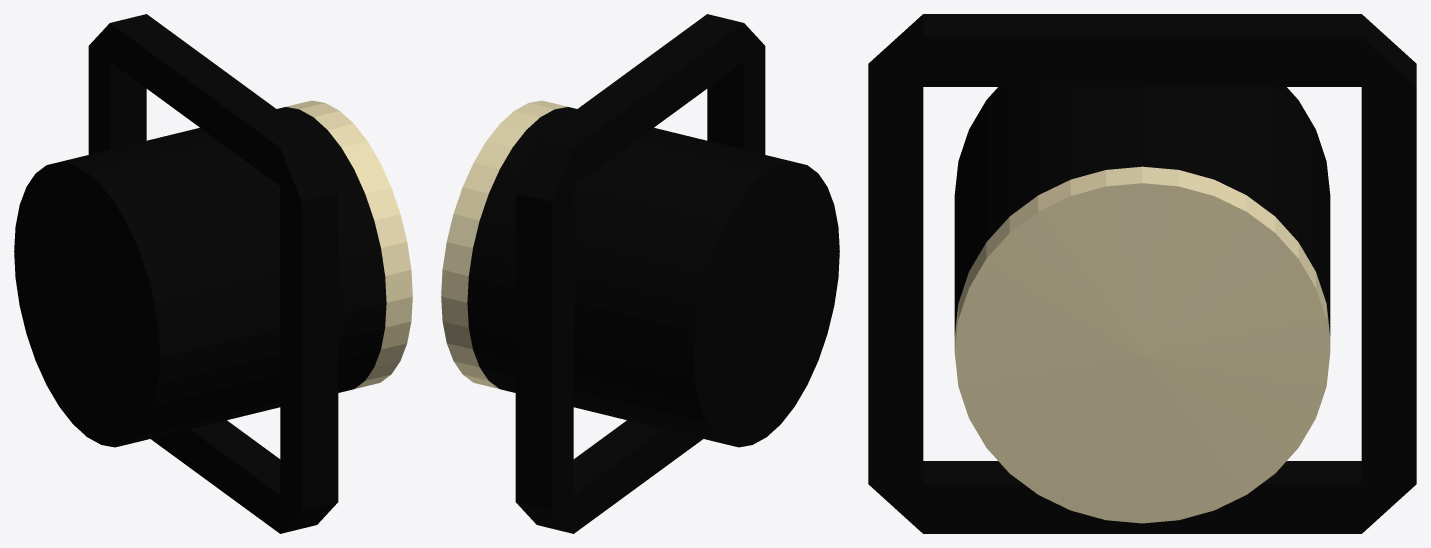
File: Stage Light.fbx
3 renders of one model, left to right at view 1: azimuth 30°, elevation 25°; view 2: azimuth 150°, elevation 25°; view 3: azimuth 270°, elevation 25°, orthographic. The views are drawn at different scales.
Visible parts, largest first — view 1: Cylinder, Cube; view 2: Cylinder, Cube; view 3: Cylinder, Cube.
Part boxes in pixels (x1,y1,x2,y2): Cylinder: (14, 100, 412, 447); Cube: (88, 14, 338, 533); Cylinder: (441, 100, 839, 447); Cube: (515, 14, 765, 533); Cylinder: (954, 87, 1330, 523); Cube: (868, 14, 1416, 533).
Bounding box in the file's own units: 692 × 1000 × 1000.
